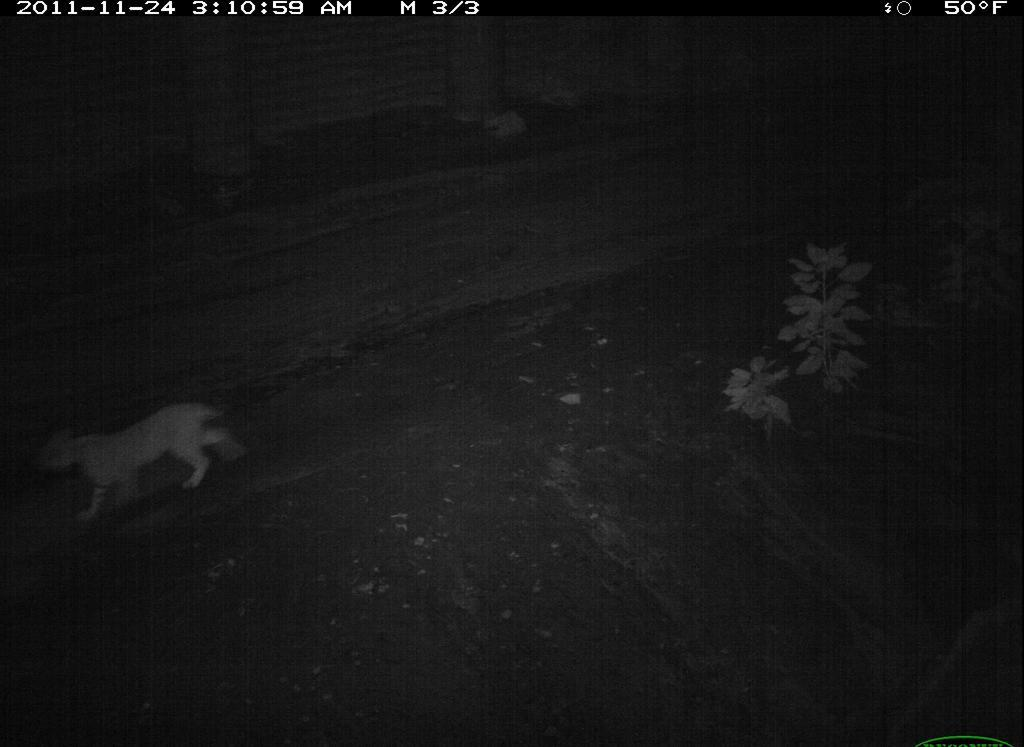bobcat: (26, 381, 255, 538)
